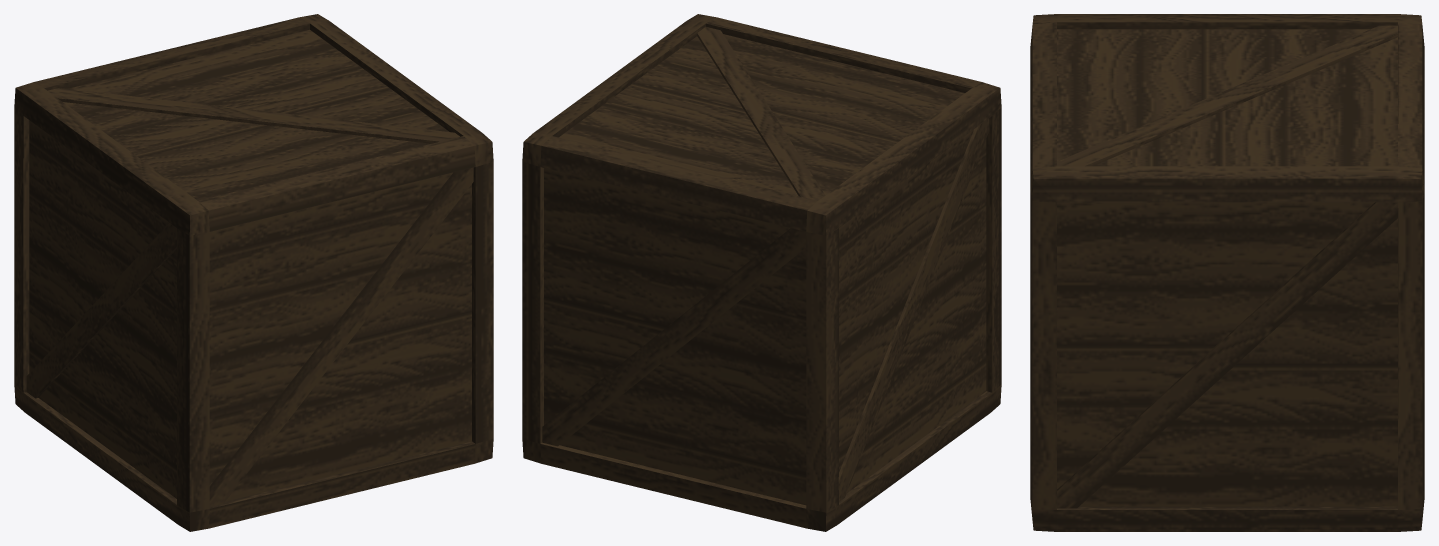
Rendered from Kiste V1.fbx.
3 renders of one model, left to right at view 1: azimuth 30°, elevation 25°; view 2: azimuth 150°, elevation 25°; view 3: azimuth 270°, elevation 25°, orthographic. The views are drawn at different scales.
Visible parts, largest first — view 1: Kiste V1; view 2: Kiste V1; view 3: Kiste V1.
Part boxes in pixels (x1,y1,x2,y2): Kiste V1: [14, 14, 493, 531]; Kiste V1: [522, 14, 1001, 531]; Kiste V1: [1030, 14, 1424, 531].
Size of the model in its own units: 100 by 100 by 100.
Materials: 1 (1 with a texture image).
